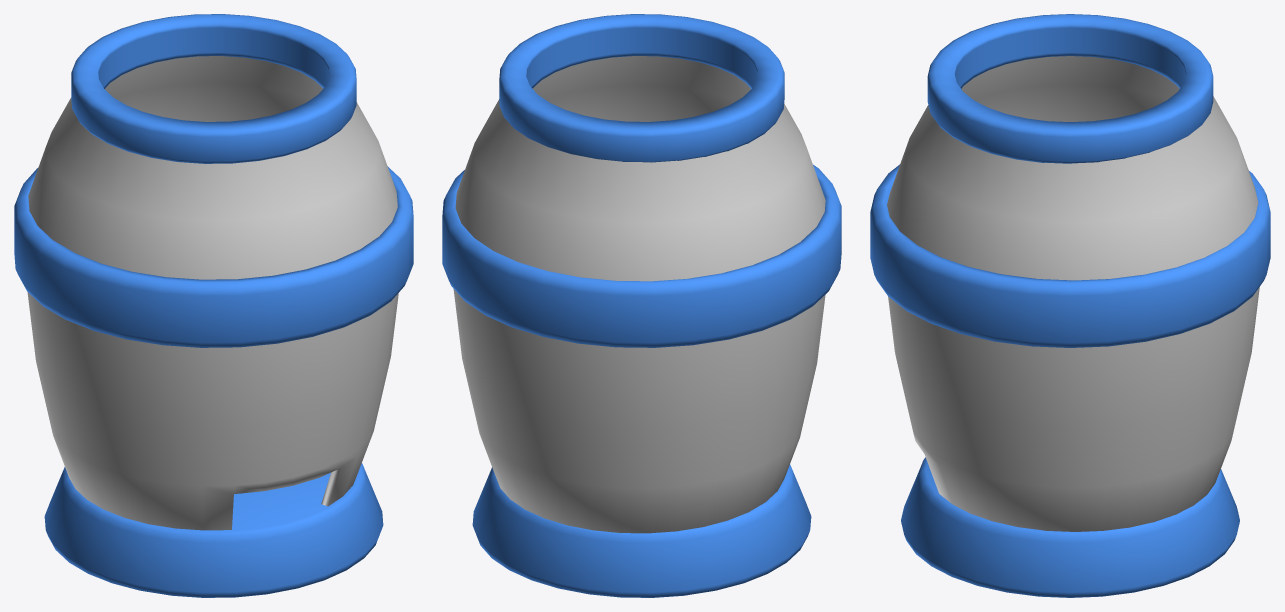
The model's file is Lab_Mixer.fbx.
3 views of the same model, side by side, from view 1: azimuth 30°, elevation 25°; view 2: azimuth 150°, elevation 25°; view 3: azimuth 270°, elevation 25° (orthographic).
Parts seen in each view (by area): view 1: Lab_Mixer; view 2: Lab_Mixer; view 3: Lab_Mixer.
Boxes of the visible parts, x1,y1,x2,y2 form: Lab_Mixer: (14,14,413,597); Lab_Mixer: (442,14,841,597); Lab_Mixer: (870,14,1270,597).
Bounding box in the file's own units: 13.69 × 17.65 × 13.69.
